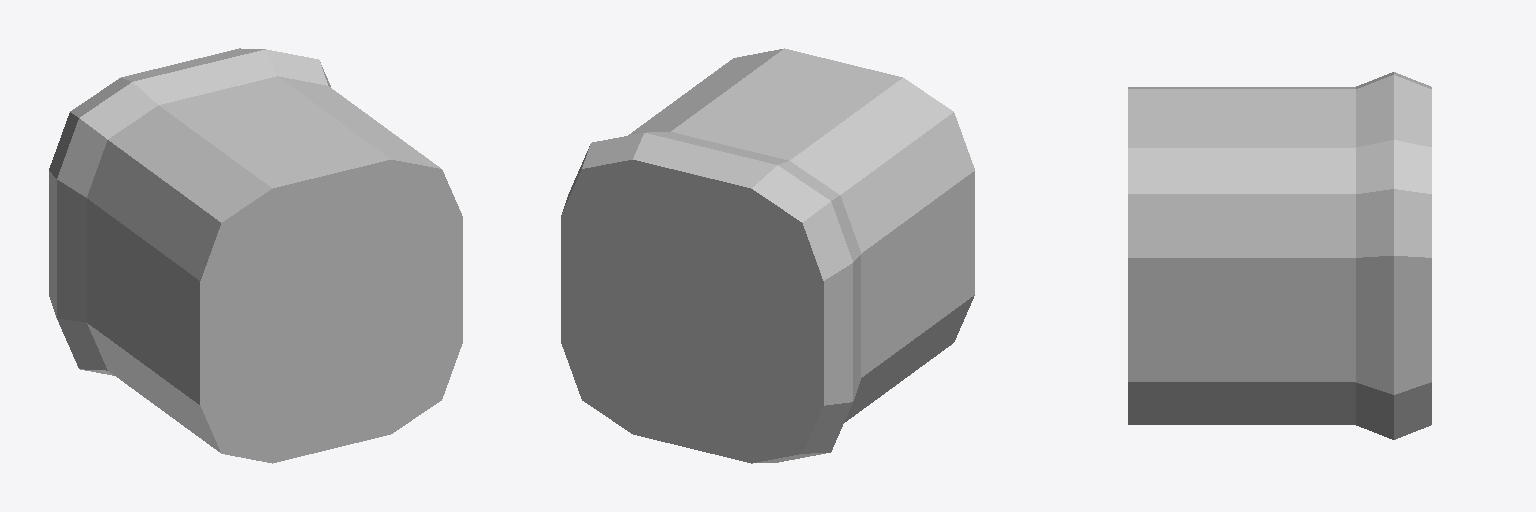
File: block-snow.obj
3 views of the same model, side by side, from view 1: azimuth 30°, elevation 25°; view 2: azimuth 150°, elevation 25°; view 3: azimuth 270°, elevation 25° (orthographic).
Visible parts, largest first — view 1: block-snow; view 2: block-snow; view 3: block-snow.
Part boxes in pixels (left/top/right/bottom): block-snow: left=49, top=48, right=462, bottom=463; block-snow: left=561, top=48, right=974, bottom=463; block-snow: left=1128, top=72, right=1431, bottom=439.
Size of the model in its own units: 1.08 by 1.08 by 1.